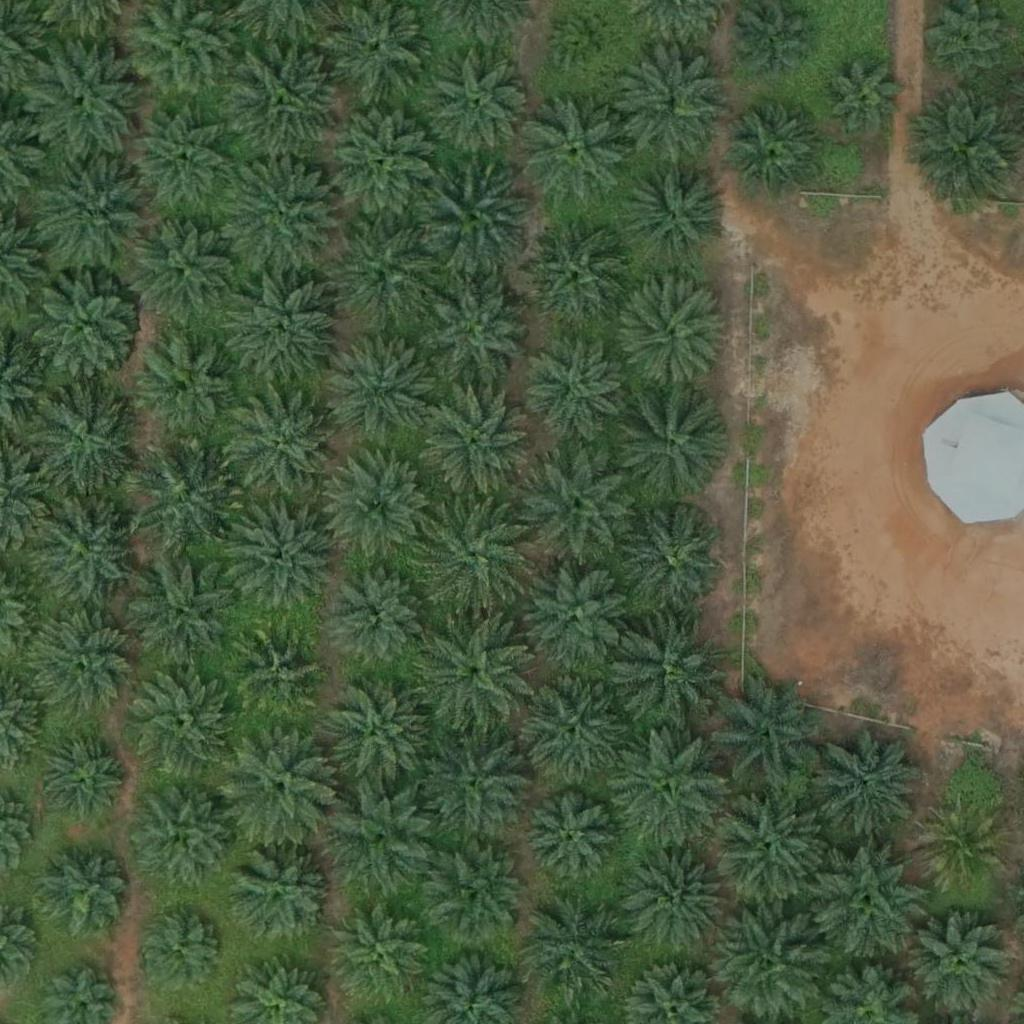Kelapa_Sawit: (227, 43, 340, 157), (227, 161, 340, 275), (326, 217, 439, 331), (327, 332, 440, 446), (815, 728, 928, 842), (813, 844, 926, 958), (713, 679, 826, 793), (223, 274, 336, 387), (230, 392, 343, 505), (323, 451, 436, 564), (519, 95, 632, 208), (516, 217, 629, 330), (615, 52, 728, 165), (619, 156, 732, 269), (619, 279, 732, 392), (614, 391, 727, 504), (418, 618, 531, 731), (417, 723, 530, 836), (320, 672, 433, 785), (29, 495, 142, 608), (328, 107, 440, 221), (420, 272, 532, 386), (419, 389, 531, 503), (522, 450, 634, 564), (713, 785, 825, 899), (616, 618, 728, 732), (30, 44, 142, 157), (36, 156, 148, 269), (30, 268, 142, 381), (25, 381, 137, 494), (129, 211, 241, 324), (126, 441, 238, 554), (420, 165, 532, 278), (414, 498, 526, 611), (710, 910, 822, 1023), (613, 732, 725, 845), (517, 677, 629, 790), (326, 779, 438, 892), (224, 728, 336, 841), (123, 667, 235, 780), (519, 562, 631, 675), (223, 495, 335, 608), (127, 554, 239, 667), (138, 334, 238, 435), (430, 54, 530, 155), (624, 849, 724, 950), (524, 894, 624, 995), (432, 844, 532, 945), (333, 901, 433, 1002), (231, 843, 331, 944), (134, 787, 234, 888), (31, 609, 131, 710), (133, 112, 233, 212), (525, 337, 625, 437), (624, 510, 724, 610), (913, 916, 1013, 1016), (730, 108, 818, 197), (234, 629, 322, 718), (918, 806, 1006, 894), (526, 796, 613, 884), (137, 903, 224, 991), (36, 733, 123, 821), (42, 852, 129, 940), (335, 572, 422, 660), (739, 8, 814, 84), (825, 59, 900, 134), (556, 11, 618, 74)
